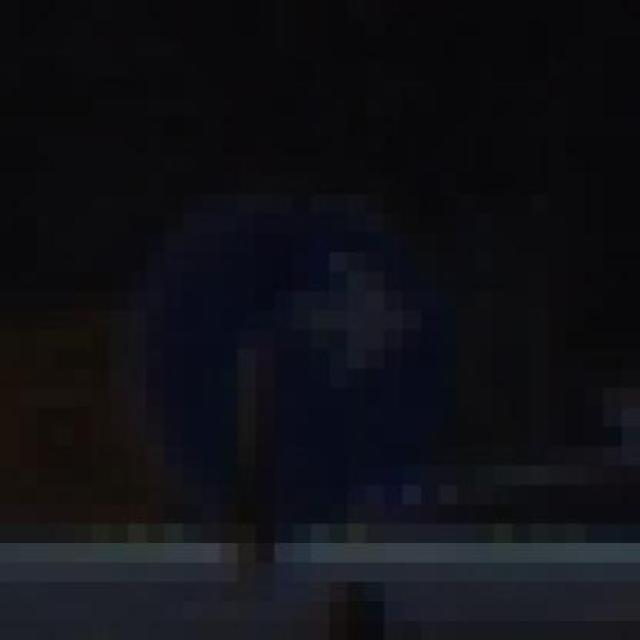Turn right ahead: (91, 155, 494, 562)
